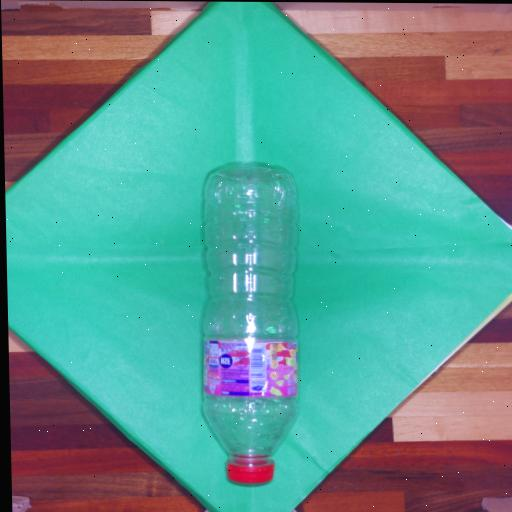bottle: (203, 165, 296, 482)
